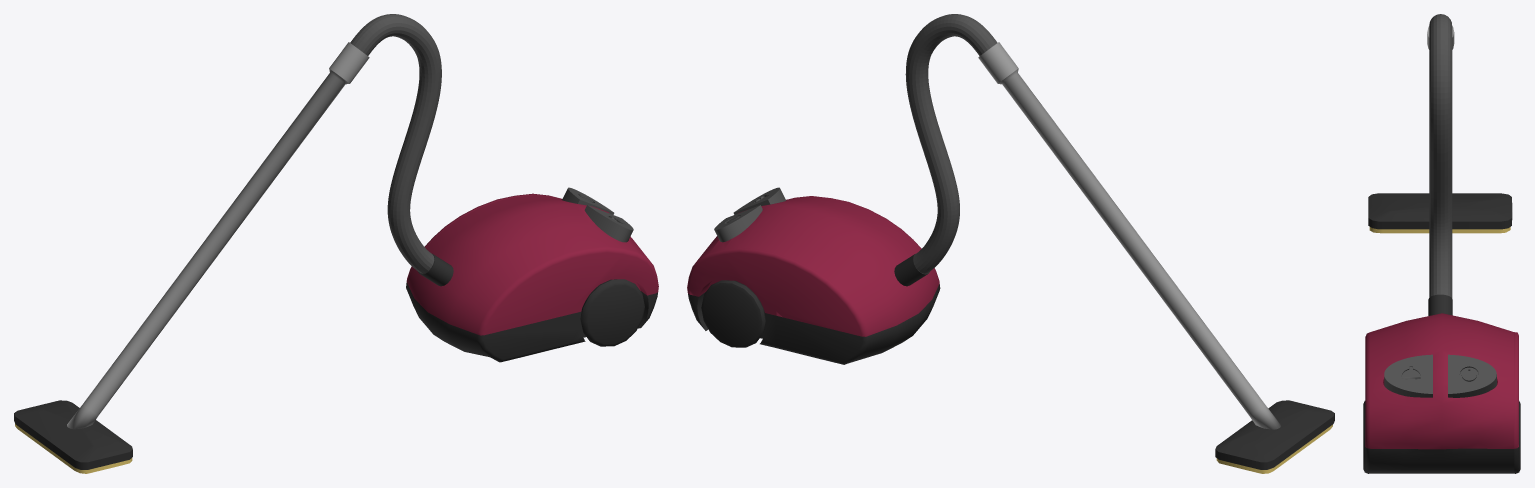
Rendered from aspirateur.obj.
3 views of the same model, side by side, from view 1: azimuth 30°, elevation 25°; view 2: azimuth 150°, elevation 25°; view 3: azimuth 270°, elevation 25° (orthographic).
Visible parts, largest first — view 1: aspirateur_haut, Cylinder_6, Tube, aspirateur_bas, balai, roue_2, Boolean_18; view 2: aspirateur_haut, Cylinder_6, Tube, aspirateur_bas, balai, roue_1, bouton_power; view 3: aspirateur_haut, Tube, balai, aspirateur_bas, Boolean_18, bouton_power, brosse, debut_tube, roue_2.
Boxes of the visible parts, left/top/right/bottom form: aspirateur_haut: left=406, top=193, right=658, bottom=335; Cylinder_6: left=67, top=42, right=369, bottom=429; Tube: left=350, top=14, right=441, bottom=273; aspirateur_bas: left=406, top=282, right=657, bottom=362; balai: left=14, top=400, right=132, bottom=469; roue_2: left=580, top=279, right=644, bottom=346; Boolean_18: left=585, top=205, right=633, bottom=242; aspirateur_haut: left=687, top=196, right=939, bottom=336; Cylinder_6: left=978, top=42, right=1280, bottom=429; Tube: left=905, top=14, right=997, bottom=273; aspirateur_bas: left=688, top=283, right=940, bottom=364; balai: left=1215, top=400, right=1334, bottom=469; roue_1: left=701, top=280, right=765, bottom=347; bouton_power: left=714, top=205, right=762, bottom=242; aspirateur_haut: left=1365, top=313, right=1518, bottom=449; Tube: left=1429, top=14, right=1452, bottom=297; balai: left=1368, top=193, right=1512, bottom=229; aspirateur_bas: left=1365, top=447, right=1518, bottom=473; Boolean_18: left=1384, top=354, right=1432, bottom=397; bouton_power: left=1448, top=354, right=1496, bottom=397; brosse: left=1369, top=227, right=1510, bottom=233; debut_tube: left=1428, top=294, right=1452, bottom=315; roue_2: left=1363, top=401, right=1369, bottom=473.
Size of the model in its own units: 143 by 82.34 by 32.84.
